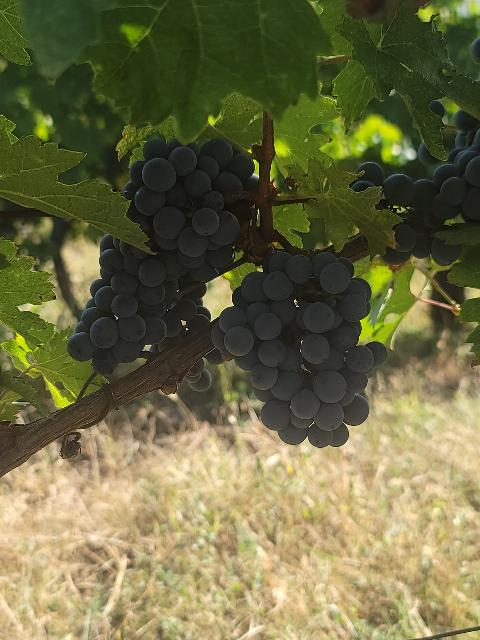grapes: (69, 139, 259, 375), (211, 251, 388, 448), (350, 110, 480, 265)
